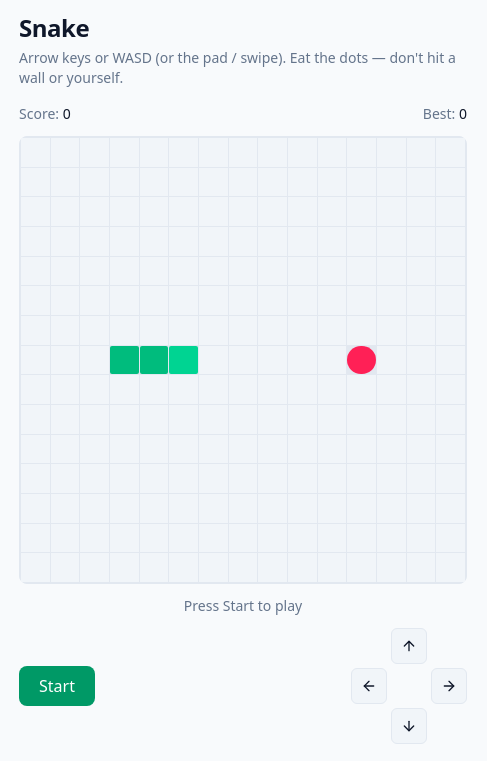
Test: SnakeApp › runs, eats the first food, then ends on a wall and records the best score
Click the button "Start".
click(57, 686)  # box [19,666,95,706]
Wait 1690 ms
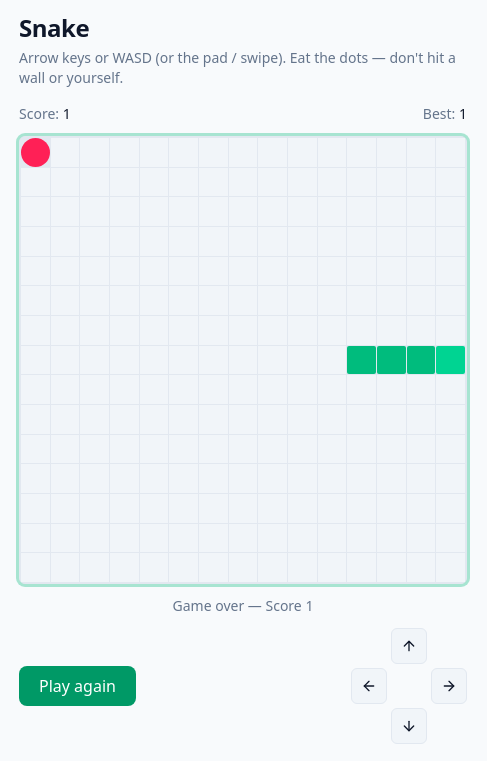
Expected: the text "Score:" reads "Score: 1", [19,104,71,124]
Expected: the text "Game over — Score 1" is shown, [173,596,314,615]
Expected: the button "Play again" is shown, [19,666,136,706]
